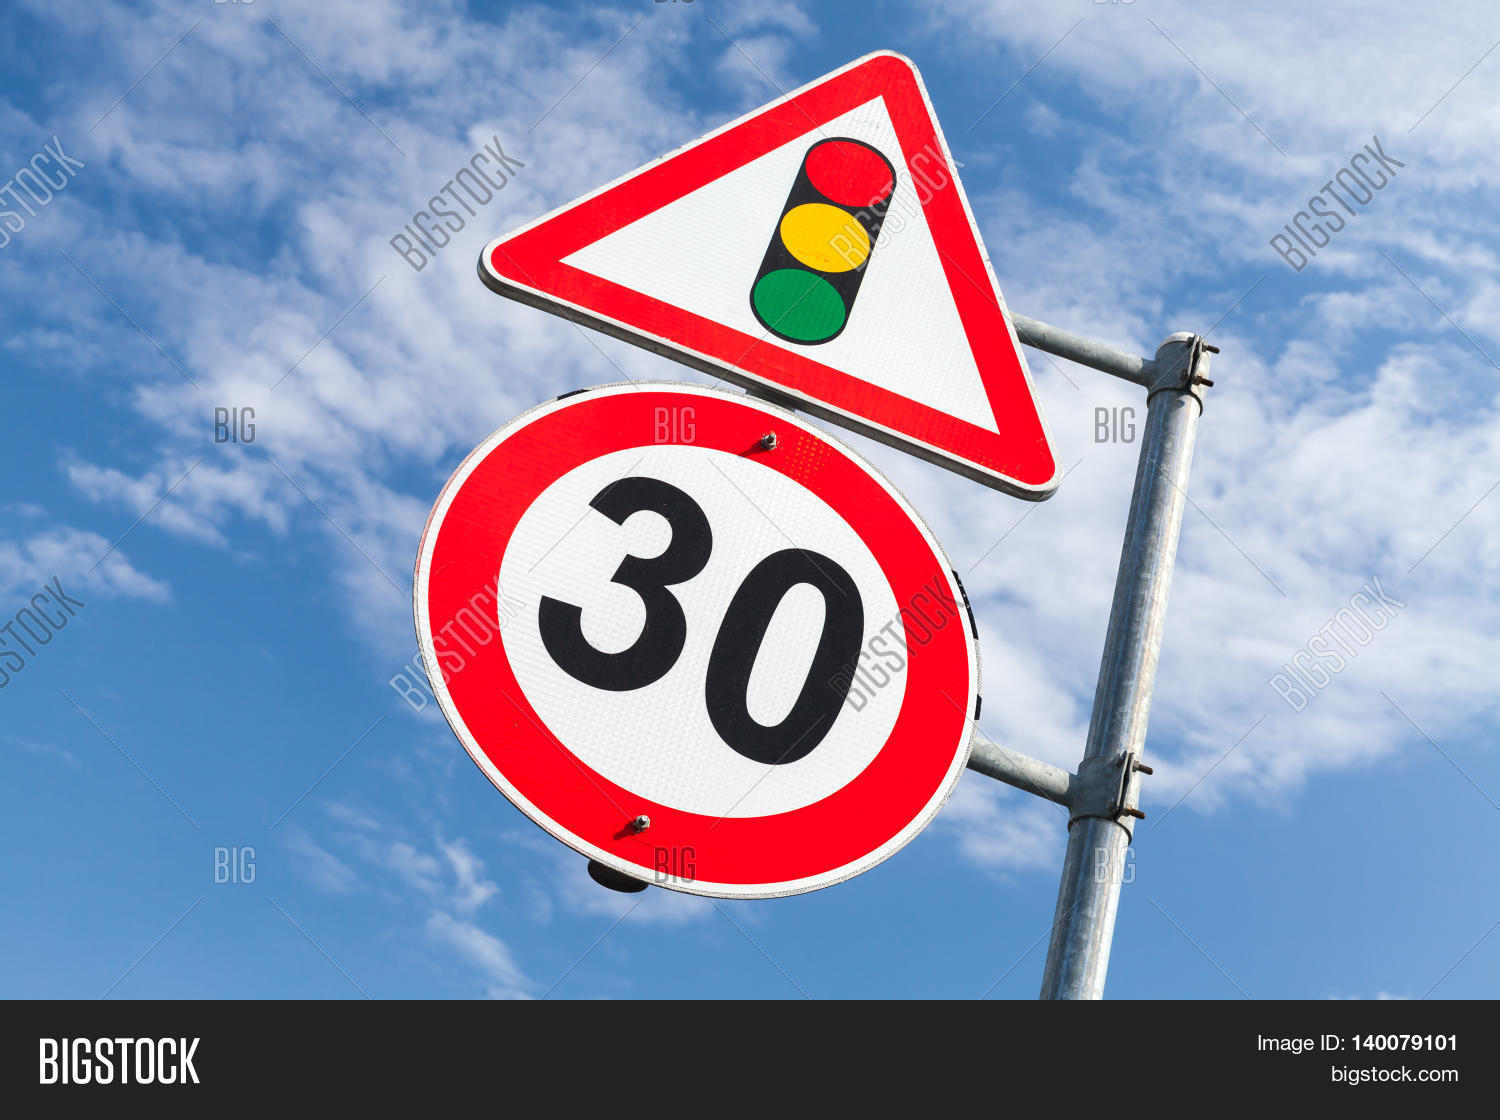30 Km Hiz Siniri: (404, 358, 1005, 899)
Trafikisiklari: (531, 9, 1048, 402)
